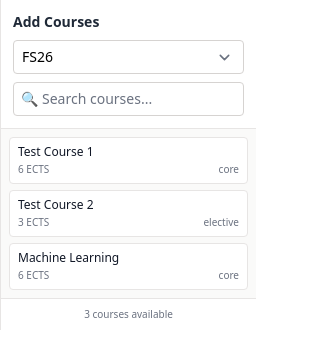
it: CoursePicker › semester selection › changes courses when semester is selected
Expected: the text "Test Course 1" is shown, [18,143,94,160]
Note: Change to HS26
Select "HS26" in the dropdown at point(128, 57), box [13,40,244,74]
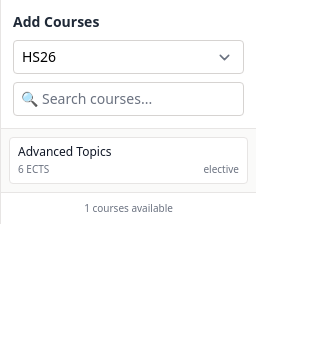
Now the text "Advanced Topics" is shown, box [18,143,111,160]
Now the button "Test Course 1" is gone
